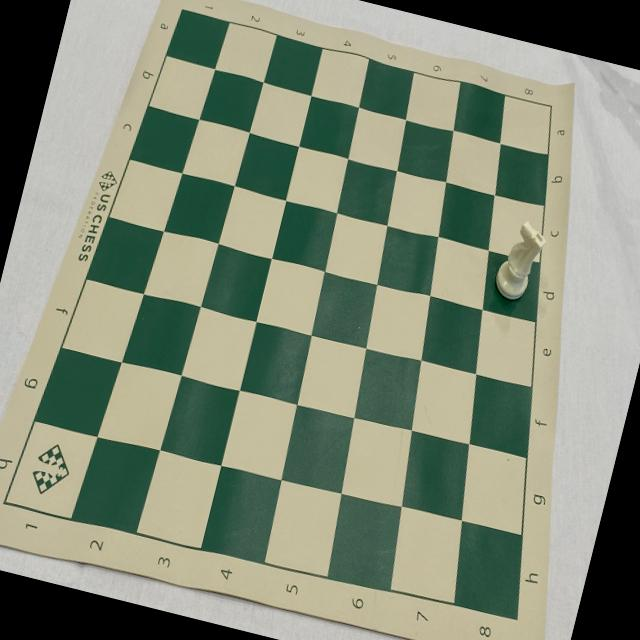white-knight: (491, 216, 548, 306)
